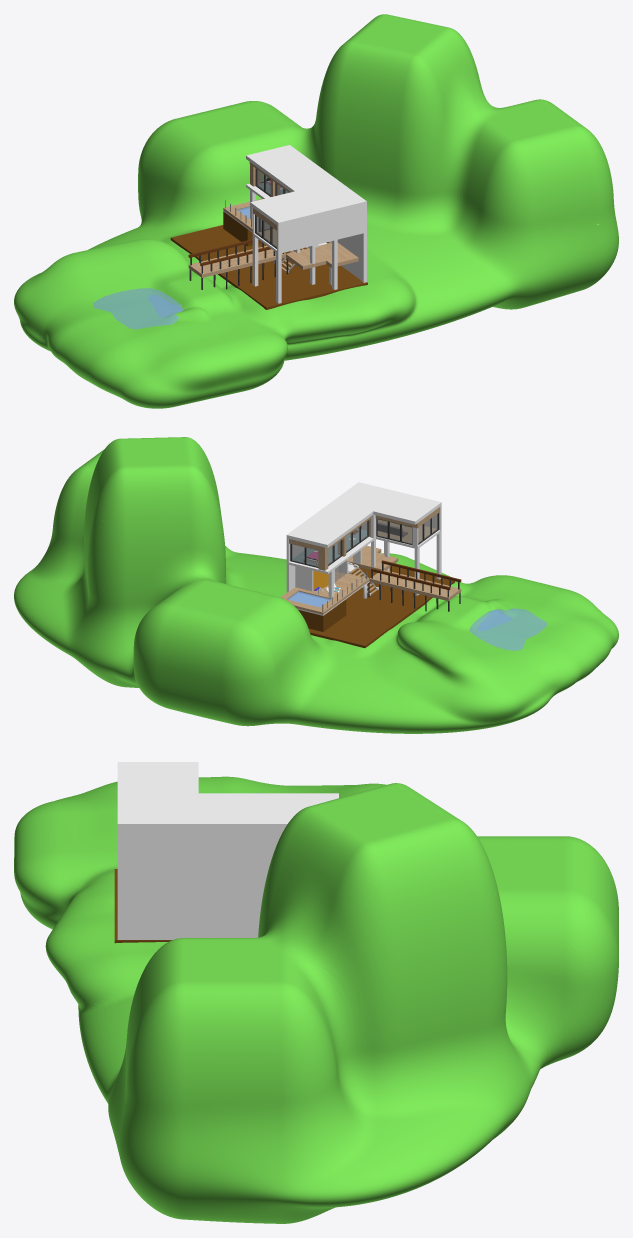
The model's file is house1.gltf.
3 renders of one model, top to bottom at view 1: azimuth 30°, elevation 25°; view 2: azimuth 150°, elevation 25°; view 3: azimuth 270°, elevation 25°, orthographic. The views are drawn at different scales.
Visible parts, largest first — view 1: Landscape, Floor, Ceiling, Lake, Side Wall, Ceiling.001, Bridge, Bottom Floor, Cube.023; view 2: Landscape, Floor, Ceiling, Lake, Ceiling.001, Bridge, Bottom Floor.004, Brick, Top Level Floor, Plane.014, Window.001, Wall.009; view 3: Landscape, Cube.023, Ceiling, Baxk wall, Ceiling.001.
Boxes of the visible parts, x1,y1,x2,y2 form: Landscape: [14, 14, 618, 408]; Floor: [170, 225, 367, 309]; Ceiling: [246, 145, 366, 215]; Lake: [93, 288, 182, 329]; Side Wall: [280, 205, 364, 251]; Ceiling.001: [250, 191, 322, 226]; Bridge: [188, 245, 285, 277]; Bottom Floor: [315, 243, 358, 267]; Cube.023: [337, 234, 360, 279]; Landscape: [14, 437, 618, 733]; Floor: [308, 566, 454, 647]; Ceiling: [286, 482, 399, 548]; Lake: [469, 608, 547, 650]; Ceiling.001: [373, 492, 441, 524]; Bridge: [369, 570, 461, 600]; Bottom Floor.004: [298, 570, 369, 602]; Brick: [298, 599, 346, 631]; Top Level Floor: [286, 536, 375, 573]; Plane.014: [292, 528, 366, 565]; Window.001: [292, 544, 318, 566]; Wall.009: [295, 566, 313, 591]; Landscape: [14, 776, 618, 1223]; Cube.023: [126, 868, 268, 939]; Ceiling: [117, 793, 338, 828]; Baxk wall: [121, 829, 284, 865]; Ceiling.001: [117, 762, 198, 793].
Bounding box in the file's own units: 5696 × 2300 × 3708.
26 materials, 1 textured.
